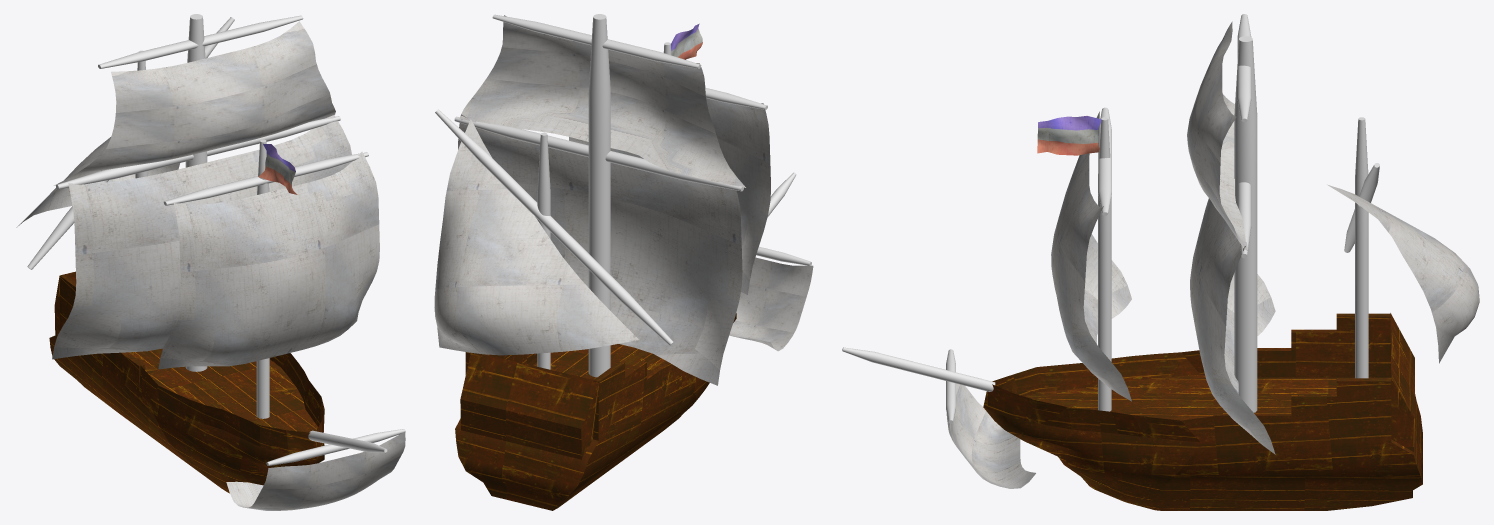
File: karavel.FBX
3 views of the same model, side by side, from view 1: azimuth 30°, elevation 25°; view 2: azimuth 150°, elevation 25°; view 3: azimuth 270°, elevation 25° (orthographic). The views are drawn at different scales.
Parts seen in each view (by area): view 1: Rectangle002, Rectangle001, Line001, Rectangle003, Rectangle004, Cylinder005, Cylinder006, Cylinder007, Line002, Cylinder003, Cylinder002, Cylinder009 (+3 smaller); view 2: Rectangle001, Line001, Line002, Rectangle003, Cylinder002, Rectangle002, Rectangle004, Cylinder008, Cylinder005, Cylinder006, Cylinder004, Line004 (+2 smaller); view 3: Line001, Rectangle001, Rectangle002, Cylinder002, Line002, Rectangle003, Rectangle004, Cylinder004, Cylinder003, Line004, Cylinder001, Cylinder006 (+3 smaller).
Boxes of the visible parts, bbox=[...] form: Rectangle002: bbox=[158, 151, 379, 369]; Rectangle001: bbox=[52, 115, 352, 359]; Line001: bbox=[49, 271, 324, 493]; Rectangle003: bbox=[54, 21, 335, 185]; Rectangle004: bbox=[226, 432, 405, 510]; Cylinder005: bbox=[56, 116, 340, 189]; Cylinder006: bbox=[98, 15, 303, 68]; Cylinder007: bbox=[163, 152, 368, 205]; Line002: bbox=[16, 137, 179, 227]; Cylinder003: bbox=[256, 139, 269, 418]; Cylinder002: bbox=[185, 14, 207, 371]; Cylinder009: bbox=[266, 429, 405, 465]; Rectangle001: bbox=[458, 114, 742, 385]; Line001: bbox=[455, 313, 736, 510]; Line002: bbox=[434, 119, 638, 355]; Rectangle003: bbox=[459, 15, 745, 187]; Cylinder002: bbox=[588, 14, 610, 377]; Rectangle002: bbox=[569, 98, 770, 294]; Rectangle004: bbox=[729, 257, 813, 351]; Cylinder008: bbox=[435, 109, 673, 345]; Cylinder005: bbox=[454, 116, 743, 191]; Cylinder006: bbox=[492, 14, 701, 68]; Cylinder004: bbox=[537, 132, 550, 369]; Line004: bbox=[671, 23, 702, 59]; Line001: bbox=[983, 313, 1422, 510]; Rectangle001: bbox=[1190, 198, 1275, 454]; Rectangle002: bbox=[1051, 111, 1131, 401]; Cylinder002: bbox=[1234, 36, 1257, 412]; Line002: bbox=[1327, 184, 1479, 363]; Rectangle003: bbox=[1187, 21, 1247, 251]; Rectangle004: bbox=[946, 354, 1035, 488]; Cylinder004: bbox=[1355, 117, 1368, 378]; Cylinder003: bbox=[1098, 117, 1111, 411]; Line004: bbox=[1037, 116, 1101, 155]; Cylinder001: bbox=[842, 347, 995, 391]; Cylinder006: bbox=[1237, 14, 1251, 122].
Bounding box in the file's own units: 409 × 595 × 731.
Materials: 3 (3 with a texture image).
